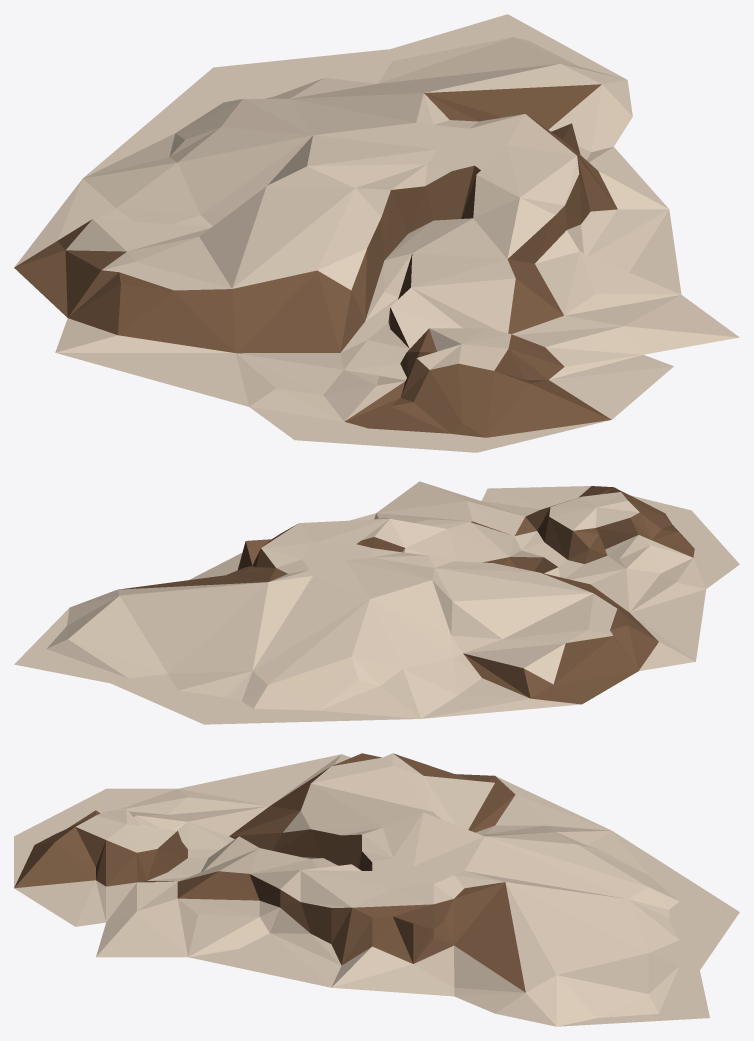
Rendered from Terrain_Flat_006.fbx.
The picture shows the model from 3 angles, top to bottom: view 1: azimuth 30°, elevation 25°; view 2: azimuth 150°, elevation 25°; view 3: azimuth 270°, elevation 25°; orthographic projection. The views are drawn at different scales.
Parts seen in each view (by area): view 1: Terrain_Flat_006; view 2: Terrain_Flat_006; view 3: Terrain_Flat_006.
Part boxes in pixels (bbox=[...]): Terrain_Flat_006: bbox=[14, 14, 739, 452]; Terrain_Flat_006: bbox=[14, 481, 739, 724]; Terrain_Flat_006: bbox=[14, 753, 739, 1026].
Bounding box in the file's own units: 44.34 × 4.44 × 49.91.
